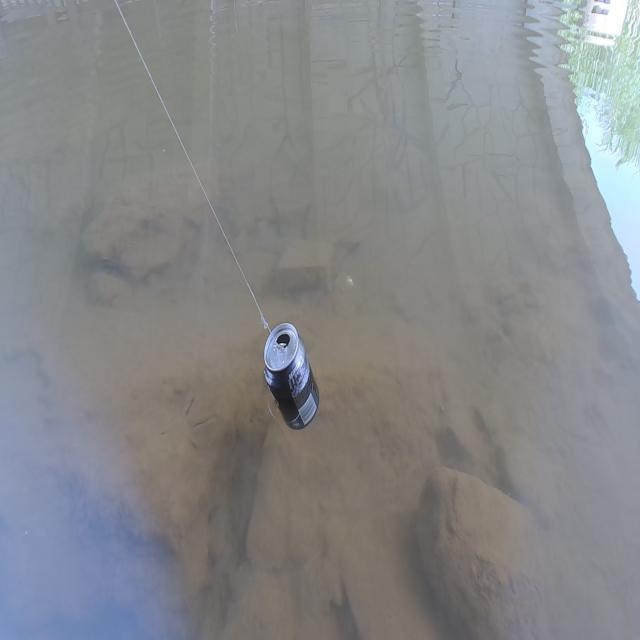garbage: (263, 321, 321, 431)
